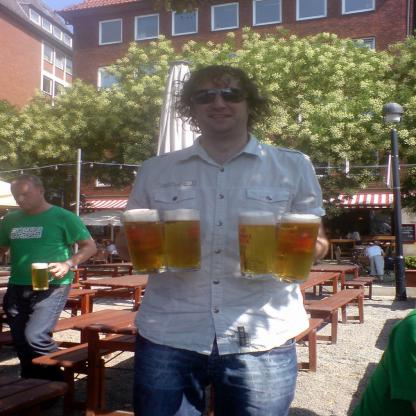drinking: (272, 212, 322, 284), (123, 209, 168, 275), (238, 210, 278, 280), (164, 209, 201, 272), (31, 262, 55, 290)
